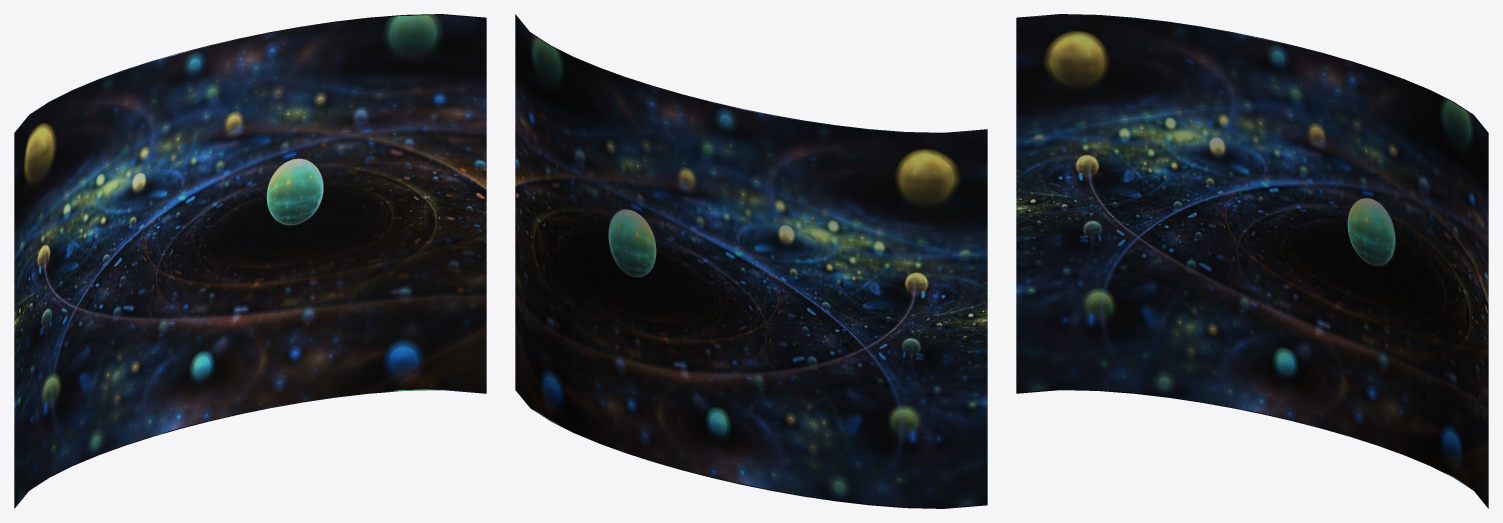
The model's file is SkyPlane.dae.
3 renders of one model, left to right at view 1: azimuth 30°, elevation 25°; view 2: azimuth 150°, elevation 25°; view 3: azimuth 330°, elevation 25°, orthographic.
Parts seen in each view (by area): view 1: Plane; view 2: Plane; view 3: Plane.
Boxes of the visible parts, bbox=[...] form: Plane: bbox=[14, 14, 486, 508]; Plane: bbox=[515, 14, 987, 508]; Plane: bbox=[1016, 14, 1488, 508].
Size of the model in its own units: 8 by 1.2 by 6.09.
1 material, 1 textured.
